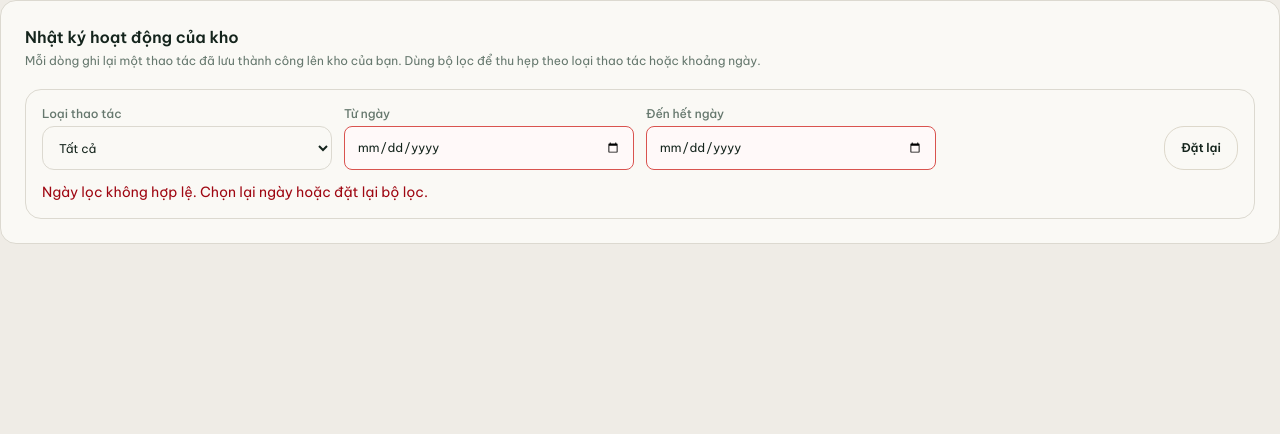
Test: OwnerAuditLog URL state › blocks invalid URL dates until corrected: from=2026-02-31&to=2026-13-01
Check: the message shows "Ngày lọc không hợp lệ", box [42,183,428,201]
Click the button "Đặt lại": click(1201, 148) [1164,126,1238,170]
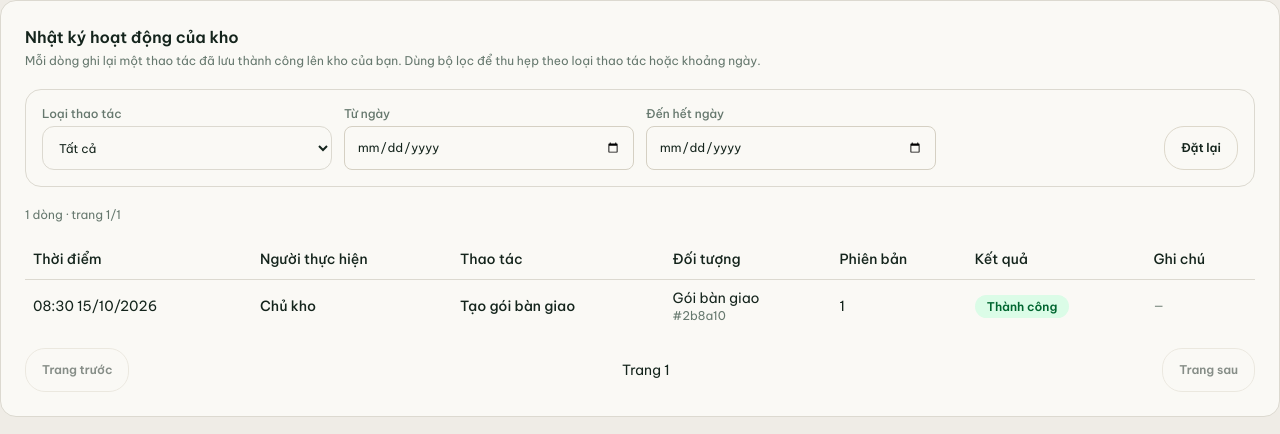
Check: the cell "Tạo gói bàn giao" is shown, box [452,279,664,332]
